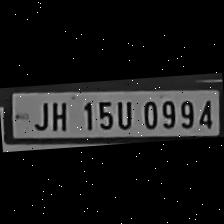0: (136, 97, 160, 128)
1: (74, 97, 94, 131)
4: (193, 96, 213, 128)
5: (92, 96, 114, 130)
9: (174, 96, 196, 128), (157, 96, 177, 130)
H: (45, 98, 71, 132)
J: (28, 98, 50, 132)
U: (113, 97, 135, 129)
